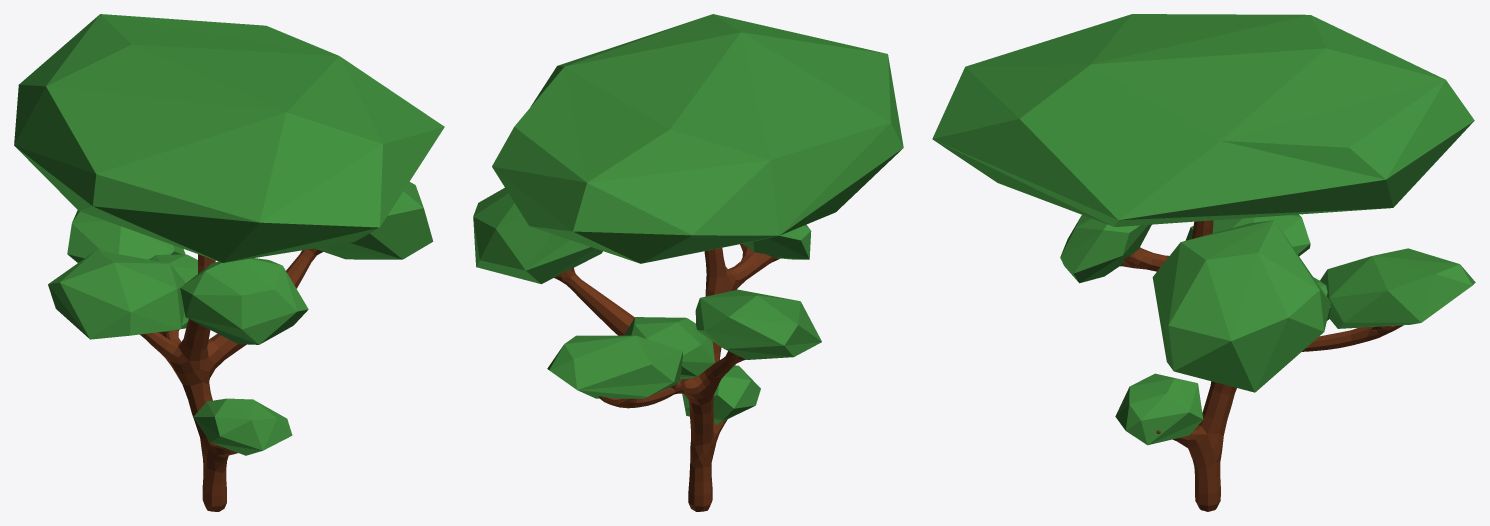
File: tree2.fbx
The picture shows the model from 3 angles, left to right: view 1: azimuth 30°, elevation 25°; view 2: azimuth 150°, elevation 25°; view 3: azimuth 270°, elevation 25°; orthographic projection. The views are drawn at different scales.
Visible parts, largest first — view 1: Icosphere, Icosphere.003, Icosphere.006, Cube, Icosphere.005, Icosphere.004, Icosphere.001, Icosphere.002; view 2: Icosphere, Cube, Icosphere.001, Icosphere.003, Icosphere.004, Icosphere.002, Icosphere.005, Icosphere.006; view 3: Icosphere, Icosphere.004, Icosphere.001, Cube, Icosphere.005, Icosphere.006, Icosphere.003.
Boxes of the visible parts, x1,y1,x2,y2 form: Icosphere: (14, 14, 444, 262); Icosphere.003: (48, 250, 185, 339); Icosphere.006: (180, 258, 308, 344); Cube: (140, 248, 323, 511); Icosphere.005: (193, 398, 292, 455); Icosphere.004: (314, 181, 433, 259); Icosphere.001: (67, 210, 185, 262); Icosphere.002: (149, 254, 197, 331); Icosphere: (492, 14, 903, 263); Cube: (554, 244, 779, 511); Icosphere.001: (547, 335, 682, 398); Icosphere.003: (695, 289, 821, 359); Icosphere.004: (473, 188, 602, 284); Icosphere.002: (624, 317, 714, 379); Icosphere.005: (682, 365, 760, 423); Icosphere.006: (742, 224, 811, 259); Icosphere: (932, 14, 1474, 226); Icosphere.004: (1152, 220, 1330, 392); Icosphere.001: (1320, 248, 1475, 328); Cube: (1120, 220, 1403, 511); Icosphere.005: (1115, 373, 1203, 445); Icosphere.006: (1060, 215, 1151, 283); Icosphere.003: (1185, 214, 1310, 256).
Bounding box in the file's own units: 1948 × 2165 × 2348.
